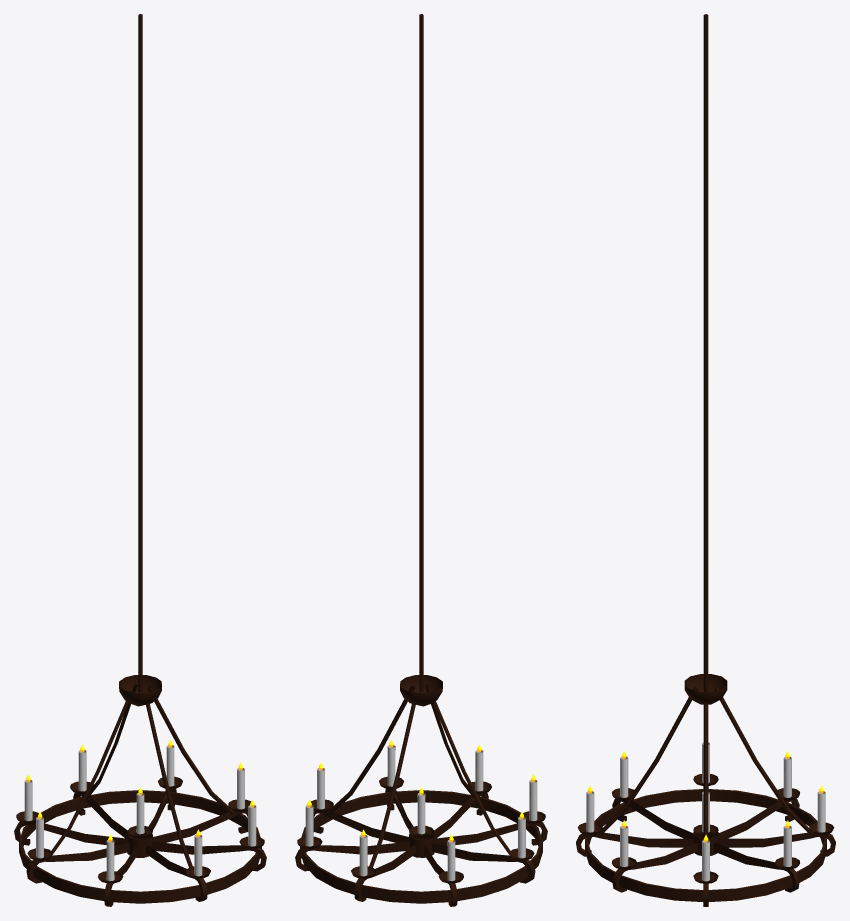
Rendered from Chandelier (1).fbx.
3 renders of one model, left to right at view 1: azimuth 30°, elevation 25°; view 2: azimuth 150°, elevation 25°; view 3: azimuth 270°, elevation 25°, orthographic.
Parts seen in each view (by area): view 1: Chandelier; view 2: Chandelier; view 3: Chandelier.
Part boxes in pixels (x1,y1,x2,y2): Chandelier: (14, 14, 266, 906); Chandelier: (295, 14, 547, 906); Chandelier: (576, 14, 835, 906).
Bounding box in the file's own units: 2.14 × 7.66 × 2.14.
